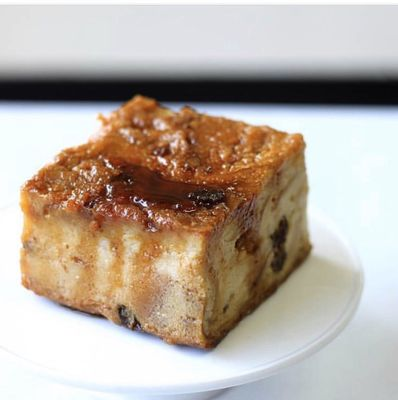sandwich: (15, 101, 325, 350)
